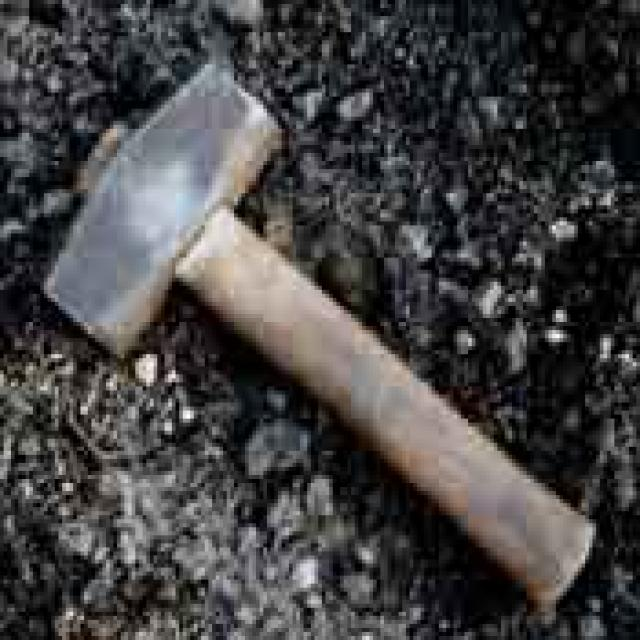hammer: (44, 56, 596, 612)
